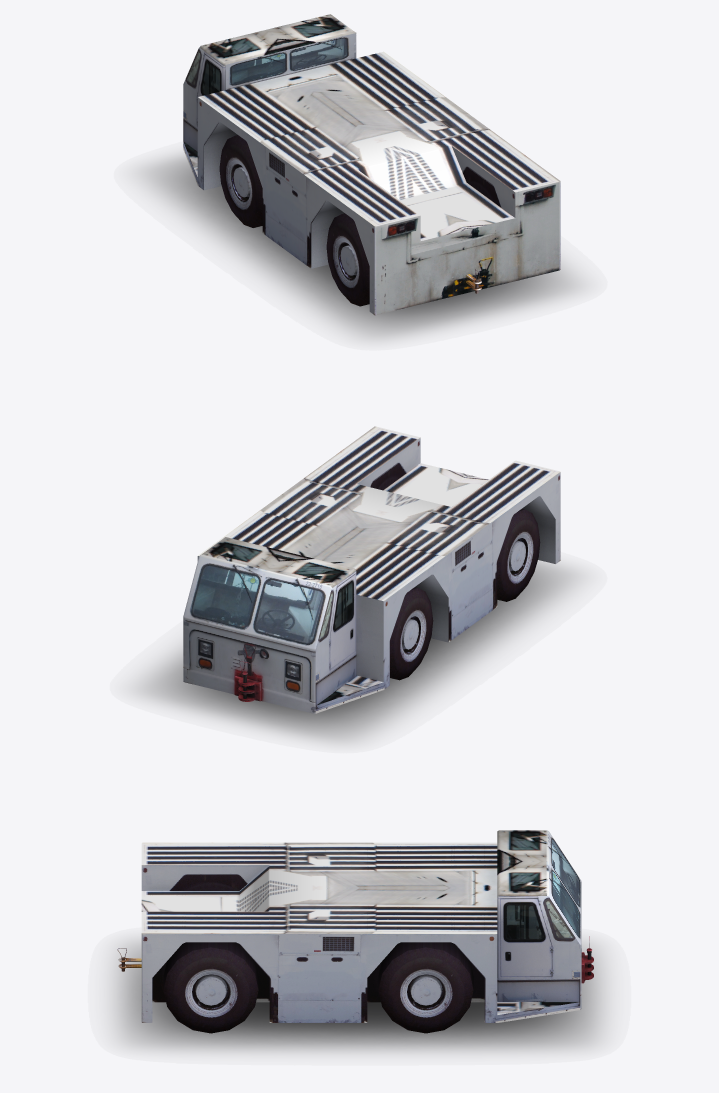
Rendered from Generic.gltf.
The picture shows the model from 3 angles, top to bottom: view 1: azimuth 30°, elevation 25°; view 2: azimuth 150°, elevation 25°; view 3: azimuth 270°, elevation 25°; orthographic projection.
Visible parts, largest first — view 1: Generic; view 2: Generic; view 3: Generic.
Boxes of the visible parts, x1,y1,x2,y2 form: Generic: (145, 14, 575, 337); Generic: (142, 426, 574, 740); Generic: (116, 830, 602, 1050).
Bounding box in the file's own units: 4.48 × 1.62 × 7.69.
Materials: 2 (2 with a texture image).
